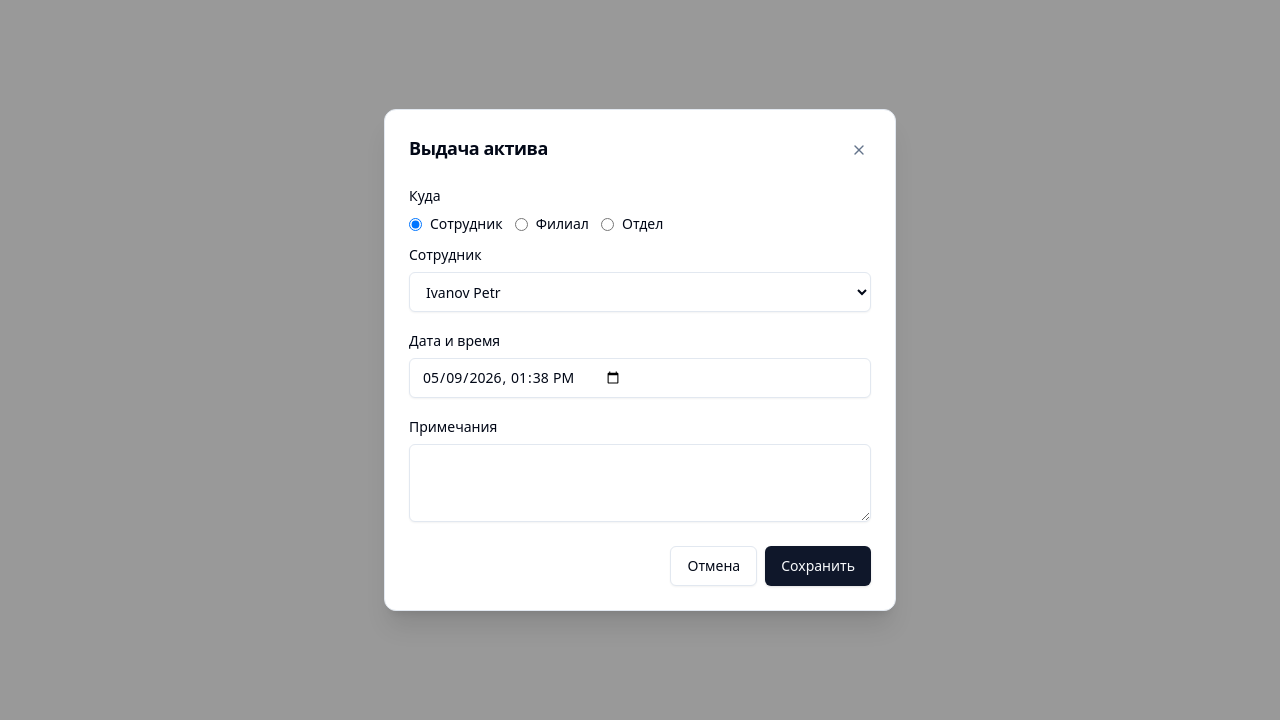
AssignDialog › conflict handling › surfaces a user-readable banner on AssignmentConflictError
Step 1. Select "Z Khach" in the dropdown with id "assign-employee" → (640, 292), box [409,272,871,312]
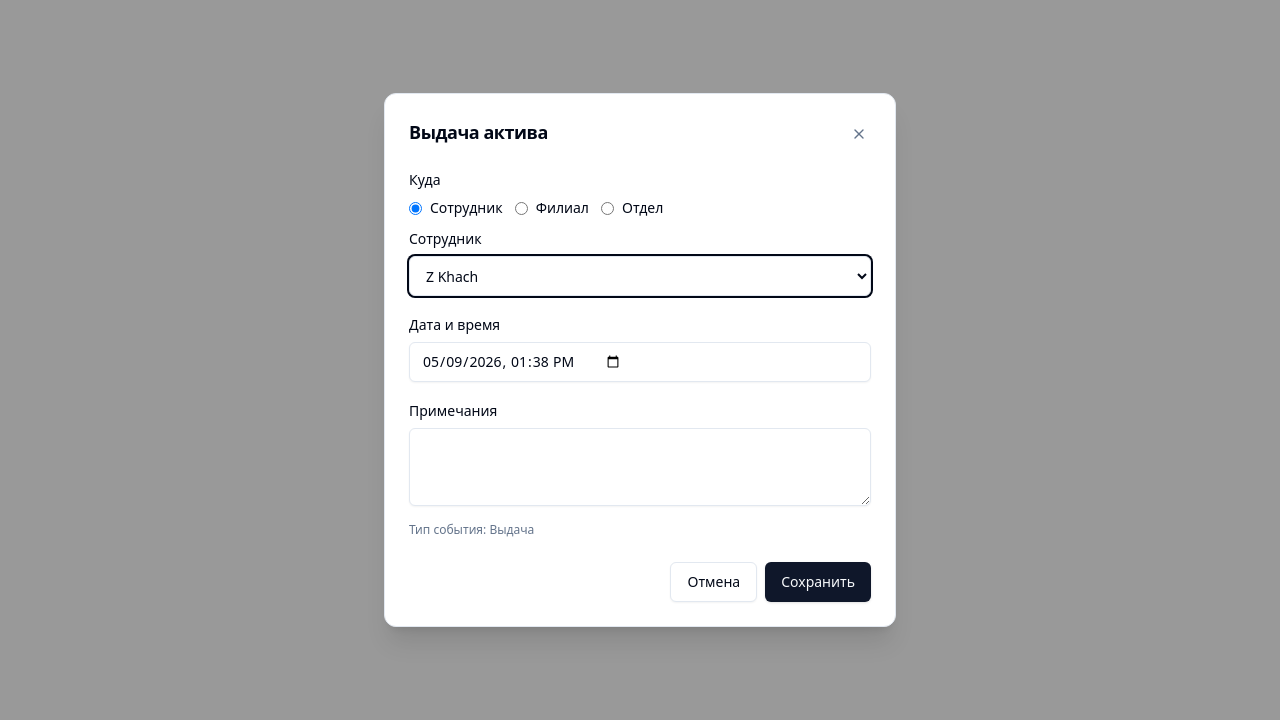
Step 2. Click the button "Сохранить" → (818, 582), box [765,562,871,602]
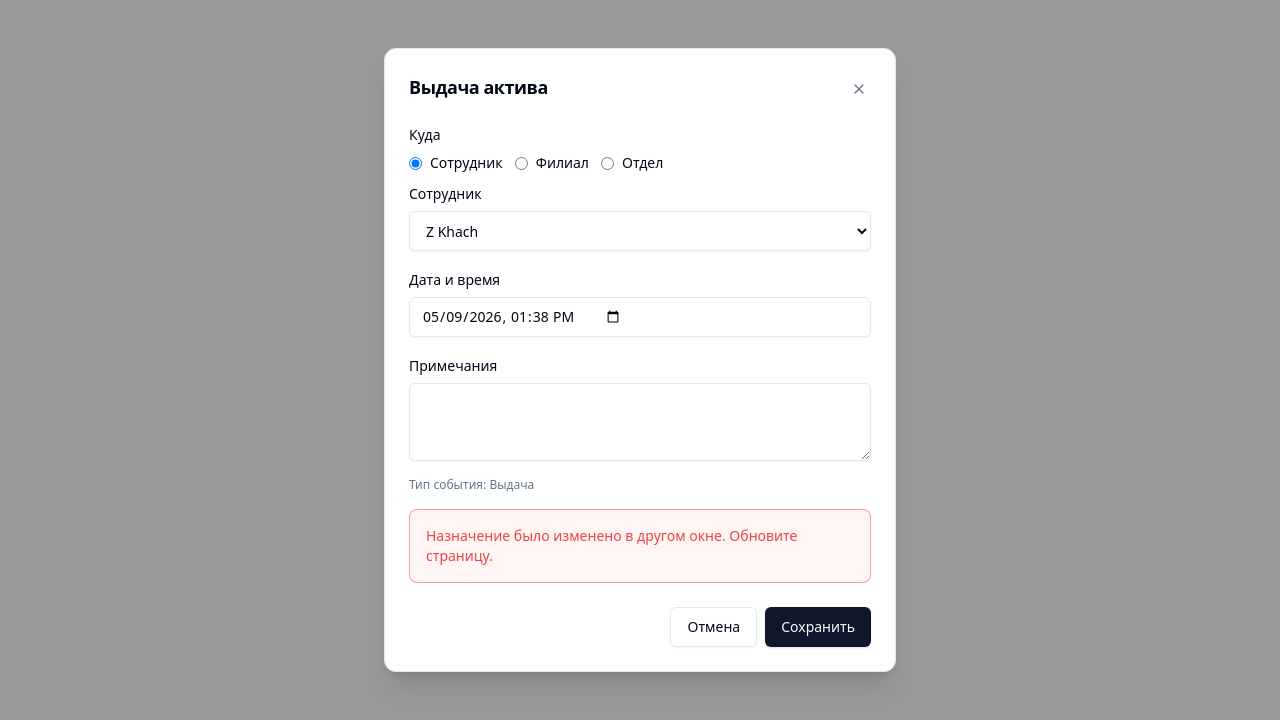
expect the text "Назначение было изменено в другом окне. Обновите страницу." is shown: met, box [426,526,854,566]
